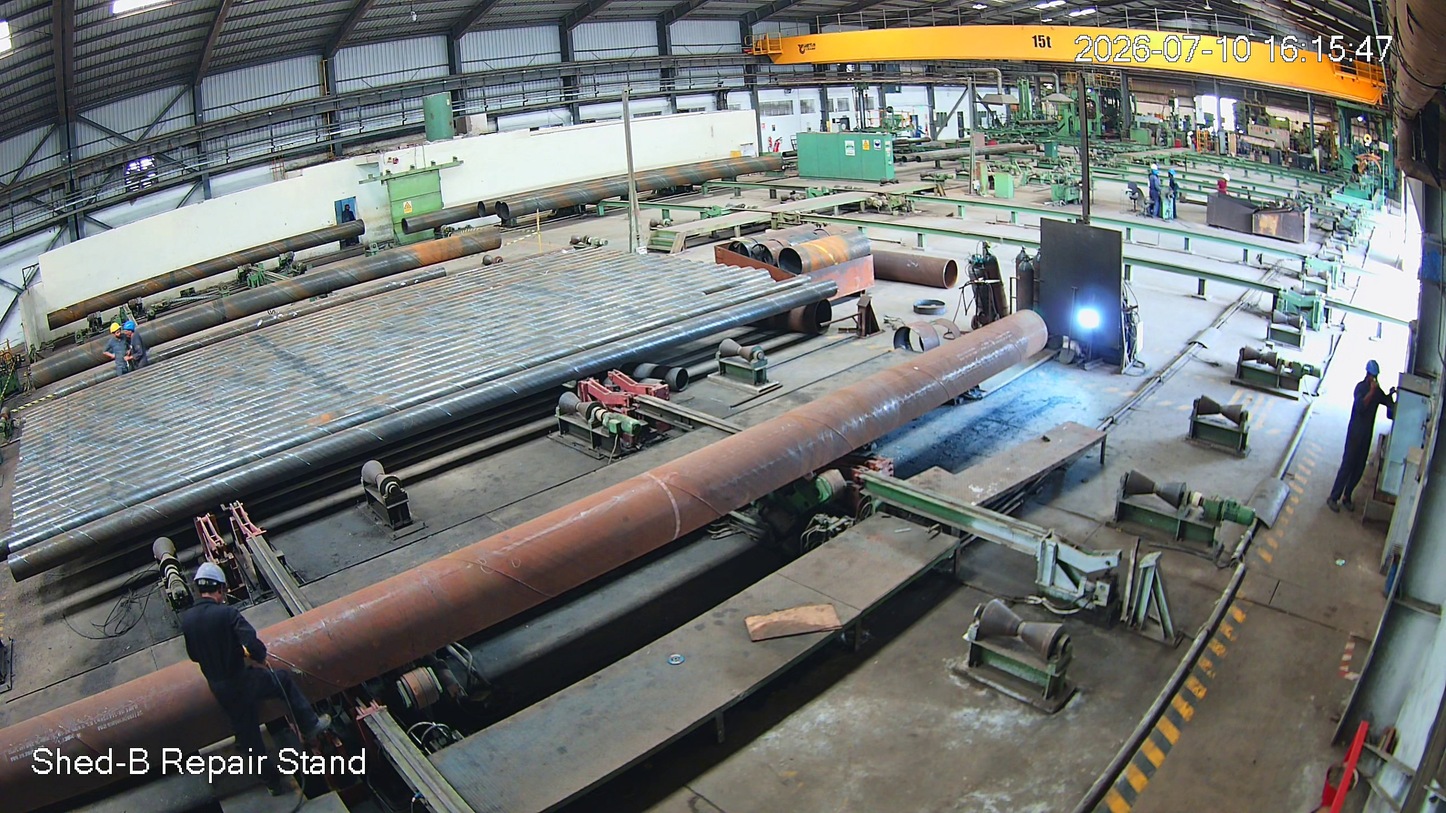Helmet: (188, 555, 262, 626), (1357, 357, 1393, 396), (109, 321, 126, 341), (122, 321, 138, 337), (1221, 170, 1232, 186), (1167, 168, 1177, 181), (1150, 167, 1160, 179)
Person: (181, 559, 332, 793), (1324, 360, 1391, 535), (123, 318, 154, 370), (104, 323, 134, 372), (1167, 169, 1181, 220), (1210, 173, 1232, 201), (1149, 168, 1162, 215)
